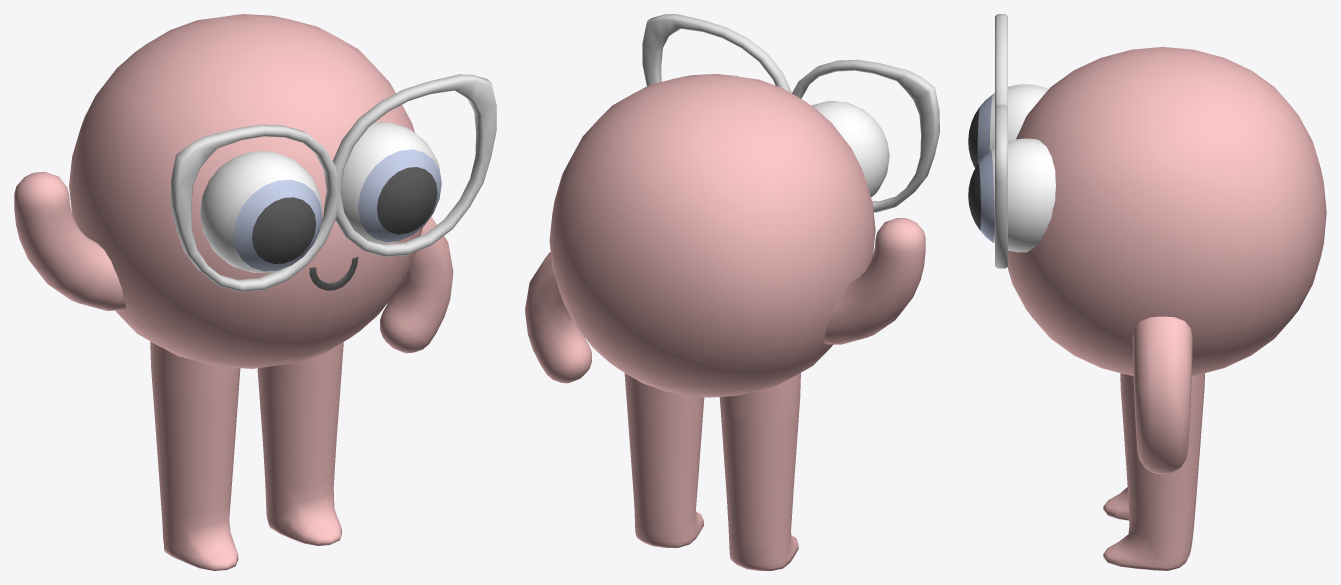
The picture shows the model from 3 angles, left to right: view 1: azimuth 30°, elevation 25°; view 2: azimuth 150°, elevation 25°; view 3: azimuth 270°, elevation 25°; orthographic projection. The views are drawn at different scales.
Visible parts, largest first — view 1: pCube4, orangeLegs, pCylinder3, eyes-whiteMTL, r arm, eyes-blackMTL, eyes-blueMTL, l arm; view 2: pCube4, orangeLegs, pCylinder3, r arm, l arm, eyes-whiteMTL; view 3: pCube4, orangeLegs, l arm, eyes-whiteMTL, pCylinder3, eyes-blueMTL, eyes-blackMTL.
Boxes of the visible parts, box(x1,y1,x2,y2) form: pCube4: box(69, 14, 422, 368); orangeLegs: box(150, 341, 343, 570); pCylinder3: box(170, 74, 496, 291); eyes-whiteMTL: box(200, 121, 441, 272); r arm: box(14, 172, 126, 310); eyes-blackMTL: box(252, 167, 437, 263); eyes-blueMTL: box(233, 149, 441, 271); l arm: box(380, 216, 453, 353); pCube4: box(549, 73, 875, 397); orangeLegs: box(624, 373, 800, 570); pCylinder3: box(642, 14, 939, 212); r arm: box(823, 218, 925, 344); l arm: box(525, 252, 591, 383); eyes-whiteMTL: box(727, 75, 889, 197); pCube4: box(1007, 47, 1326, 375); orangeLegs: box(1103, 373, 1204, 570); l arm: box(1132, 316, 1192, 474); eyes-whiteMTL: box(989, 84, 1055, 252); pCylinder3: box(995, 14, 1007, 268); eyes-blueMTL: box(977, 94, 994, 242); eyes-blackMTL: box(968, 107, 980, 229).
Bounding box in the file's own units: 0.0564 × 0.0629 × 0.0434.
